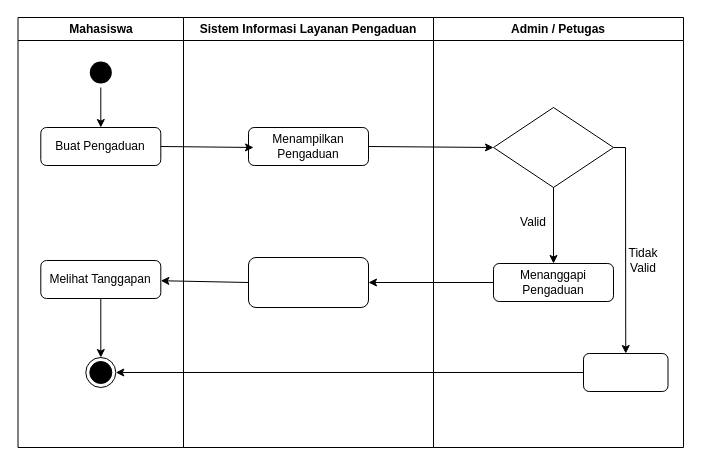
Image size: 701x465. Some labels were removed from this diagram. The shapes that lost their labels are listed below. From the top down, each one's centre as x and y in pixels, then its label:
(553,147): Mengecek Pengaduan
(308,282): Menampilkan Tanggapan Pengaduan
(625,372): Hapus Pengaduan
